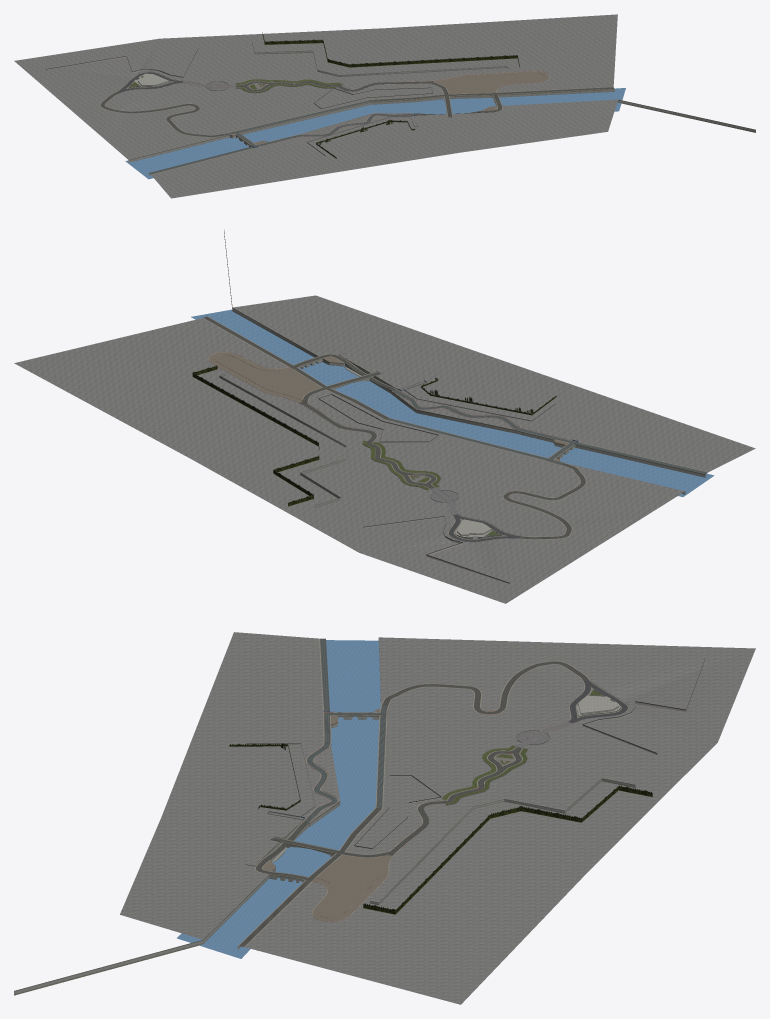
The model's file is Newground.glb.
The picture shows the model from 3 angles, top to bottom: view 1: azimuth 30°, elevation 25°; view 2: azimuth 150°, elevation 25°; view 3: azimuth 270°, elevation 25°; orthographic projection. The views are drawn at different scales.
Visible parts, largest first — view 1: dibiao_29, dibiao_28, shaidao_55_13, shaidao_57_4, dibiao_30, shaidao_55_1, shaidao_57_6, shaidao_55_9, shaidao_57_1, shaidao_57_2, shaidao_55_2, shaidao_56_5 (+7 smaller); view 2: dibiao_29, dibiao_28, shaidao_55_13, dibiao_30, shaidao_55_1, shaidao_55_9, shaidao_57_6, shaidao_57_1, shaidao_56_5, shaidao_55_2, shaidao_54_1, shaidao_57_2 (+4 smaller); view 3: dibiao_29, dibiao_28, shaidao_55_13, dibiao_30, shaidao_55_1, shaidao_56_5, shaidao_57_6, shaidao_57_1, shaidao_54_1, shaidao_55_2, shaidao_57_4, shaidao_57_5 (+7 smaller).
Boxes of the visible parts, left/top/right/bottom form: dibiao_29: left=14, top=14, right=617, bottom=159; dibiao_28: left=151, top=99, right=617, bottom=198; shaidao_55_13: left=125, top=88, right=625, bottom=179; shaidao_57_4: left=252, top=42, right=614, bottom=104; dibiao_30: left=437, top=73, right=544, bottom=93; shaidao_55_1: left=149, top=100, right=415, bottom=174; shaidao_57_6: left=262, top=32, right=519, bottom=67; shaidao_55_9: left=128, top=102, right=417, bottom=175; shaidao_57_1: left=370, top=81, right=614, bottom=101; shaidao_57_2: left=370, top=71, right=613, bottom=101; shaidao_55_2: left=151, top=100, right=412, bottom=174; shaidao_56_5: left=416, top=95, right=755, bottom=132; dibiao_29: left=14, top=318, right=684, bottom=603; dibiao_28: left=233, top=295, right=755, bottom=472; shaidao_55_13: left=191, top=309, right=714, bottom=496; dibiao_30: left=214, top=354, right=321, bottom=399; shaidao_55_1: left=386, top=389, right=707, bottom=474; shaidao_55_9: left=391, top=380, right=705, bottom=494; shaidao_57_6: left=192, top=365, right=319, bottom=506; shaidao_57_1: left=203, top=316, right=388, bottom=421; shaidao_56_5: left=224, top=230, right=393, bottom=393; shaidao_55_2: left=386, top=389, right=707, bottom=472; shaidao_54_1: left=503, top=463, right=585, bottom=539; shaidao_57_2: left=203, top=316, right=389, bottom=420; dibiao_29: left=245, top=637, right=755, bottom=1004; dibiao_28: left=120, top=632, right=339, bottom=939; shaidao_55_13: left=177, top=640, right=380, bottom=958; dibiao_30: left=316, top=855, right=384, bottom=918; shaidao_55_1: left=304, top=638, right=387, bottom=822; shaidao_56_5: left=14, top=823, right=335, bottom=995; shaidao_57_6: left=363, top=785, right=652, bottom=914; shaidao_57_1: left=239, top=808, right=419, bottom=946; shaidao_54_1: left=382, top=661, right=588, bottom=714; shaidao_55_2: left=303, top=638, right=388, bottom=822; shaidao_57_4: left=237, top=778, right=635, bottom=949; shaidao_57_5: left=312, top=855, right=392, bottom=921.
Size of the model in its own units: 34.44 by 0.5822 by 29.12.
Materials: 21 (21 with a texture image).
